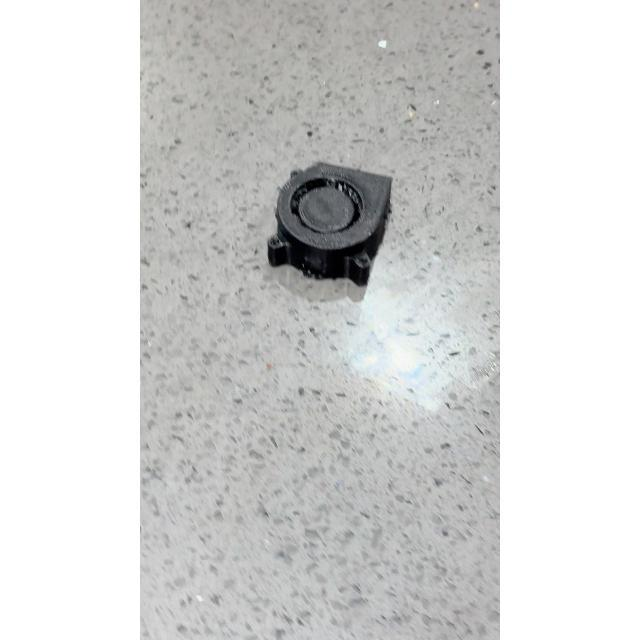Pieza3: (250, 149, 412, 299)
